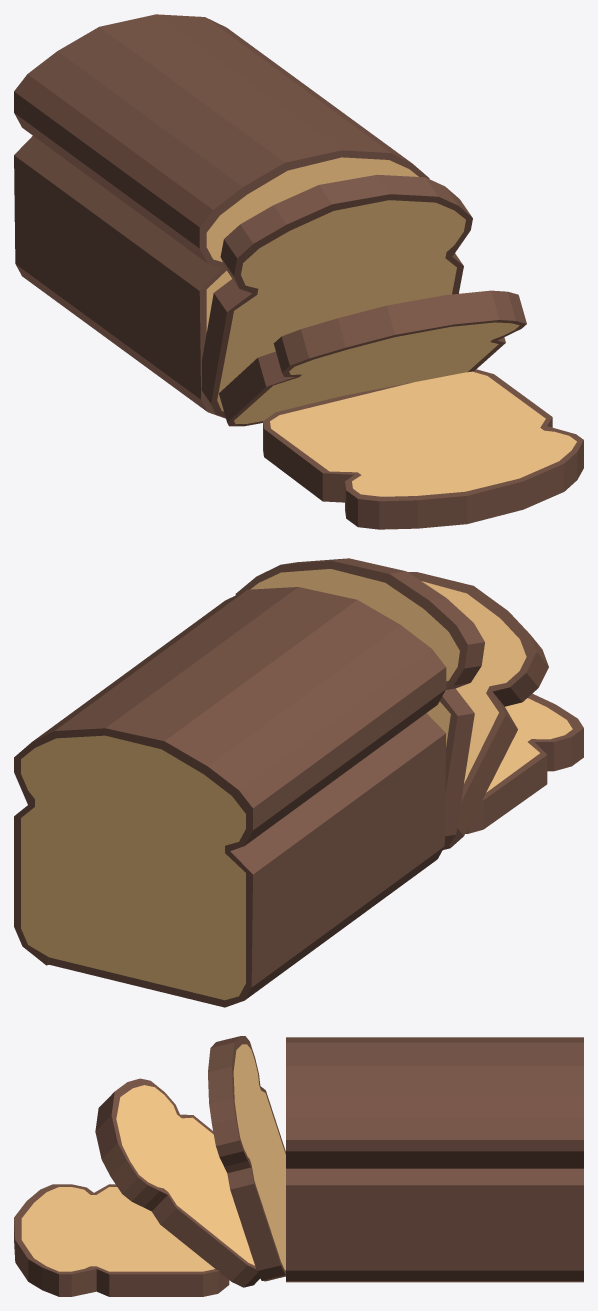
File: bread.glb
3 views of the same model, one above another, from view 1: azimuth 30°, elevation 25°; view 2: azimuth 150°, elevation 25°; view 3: azimuth 270°, elevation 25° (orthographic). The views are drawn at different scales.
Parts seen in each view (by area): view 1: Node; view 2: Node; view 3: Node.
Part boxes in pixels (box(x1,y1,x2,y2)): Node: box(14, 14, 583, 529); Node: box(14, 558, 583, 1007); Node: box(14, 1036, 583, 1296).
Bounding box in the file's own units: 0.1594 × 0.1516 × 0.3968.
